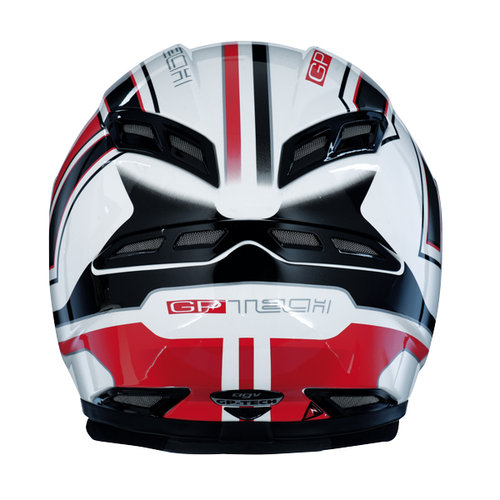helmet: (42, 33, 425, 440)
